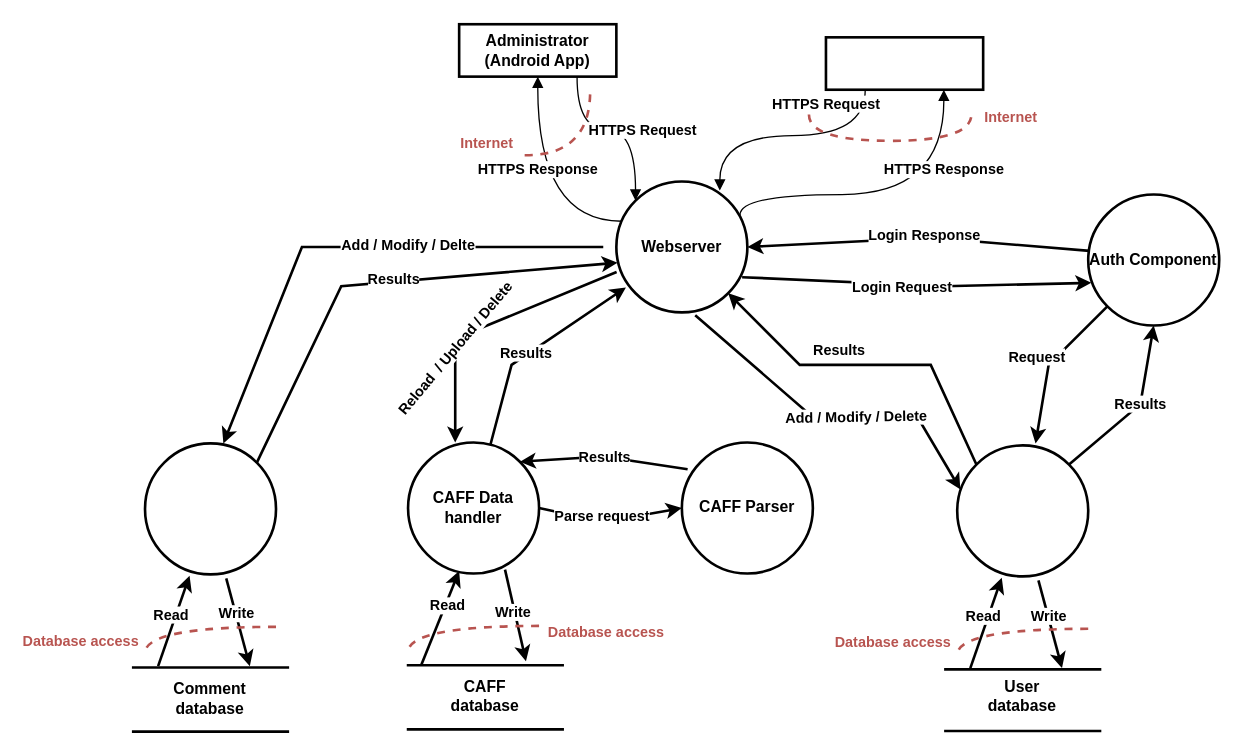
Image size: 1243x756. Some labels were removed from this diagram. The box of each missing label's shape, as (x1, y1, x2, y2) in pixels:
Comment Data handler: (143, 441, 277, 575)
User (Android App): (824, 35, 984, 90)
User Data handler: (955, 443, 1089, 577)
